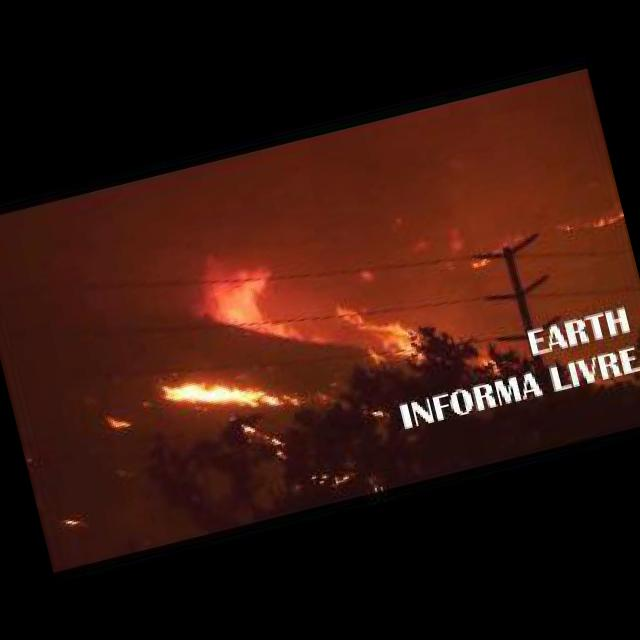fire: (196, 246, 312, 340), (334, 290, 426, 374), (158, 359, 272, 424), (229, 407, 292, 468), (459, 226, 532, 270), (552, 202, 624, 238), (103, 410, 135, 434)
